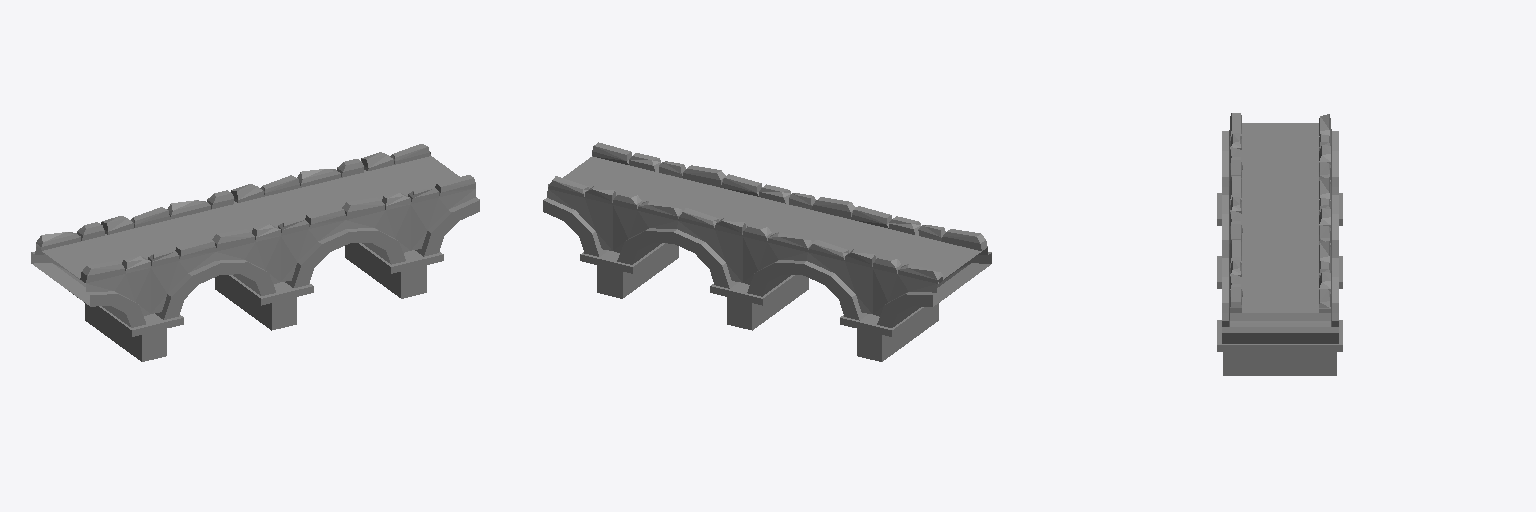
Rendered from bridge.obj.
3 views of the same model, side by side, from view 1: azimuth 30°, elevation 25°; view 2: azimuth 150°, elevation 25°; view 3: azimuth 270°, elevation 25° (orthographic).
Parts seen in each view (by area): view 1: Tube01; view 2: Tube01; view 3: Tube01.
Part boxes in pixels (x1,y1,x2,y2): Tube01: (31, 144, 479, 361); Tube01: (543, 142, 991, 361); Tube01: (1217, 113, 1342, 375).
Size of the model in its own units: 346 by 86.12 by 96.91.